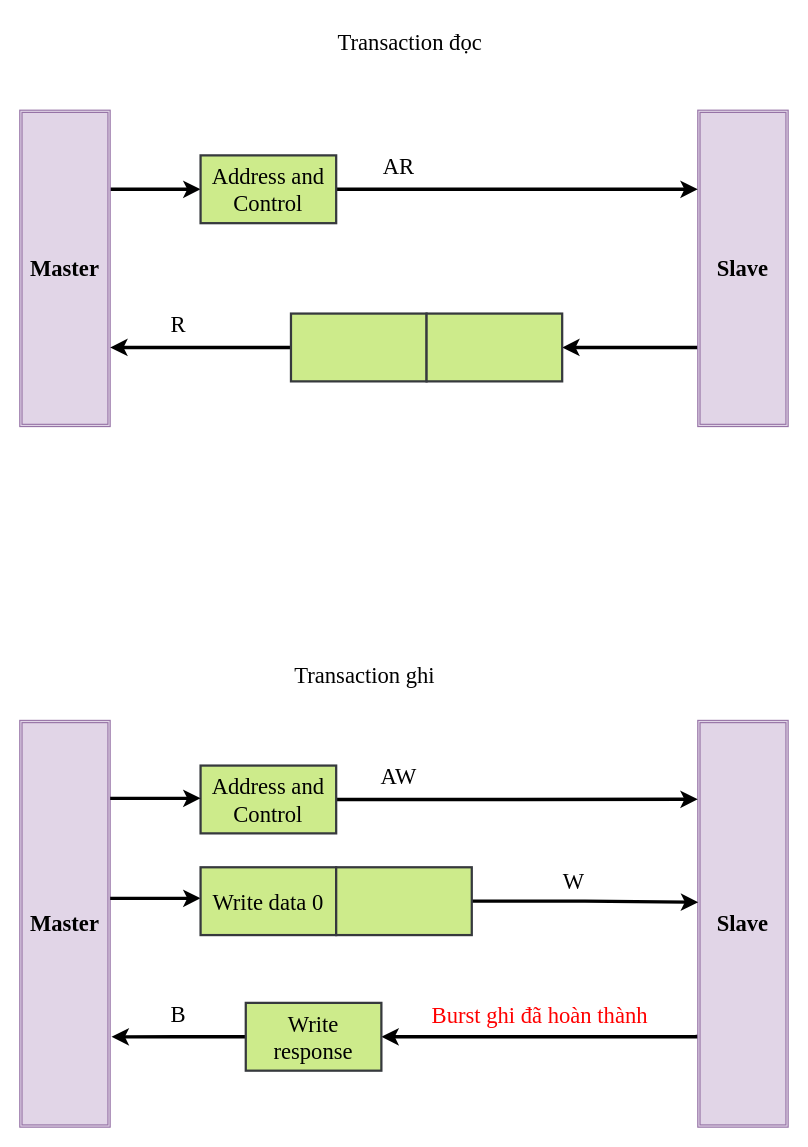
The diagram is 808 pixels wide and 1147 high, and some of its shapes have lost their labels. The shapes that lost their labels are listed below. From the top down, each one's centre as x and y in pixels, then its label:
At point (358, 347): "Read data and Response 0".
At point (494, 347): "Read data and Response 1".
At point (403, 901): "Write data 1".
